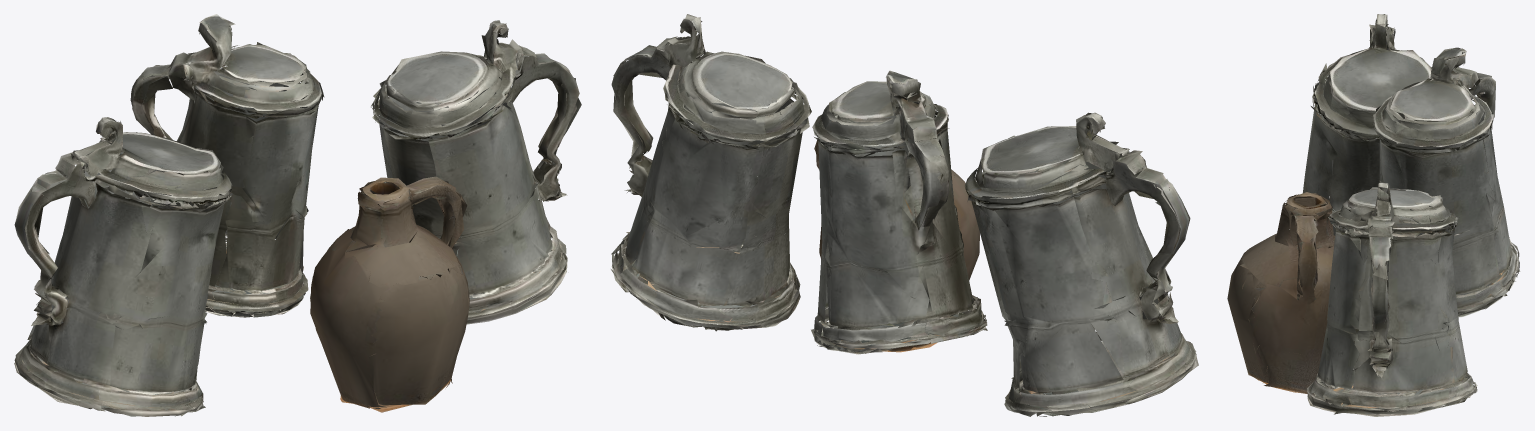
The model's file is tankard-cluster-interior-lod.glb.
The picture shows the model from 3 angles, left to right: view 1: azimuth 30°, elevation 25°; view 2: azimuth 150°, elevation 25°; view 3: azimuth 270°, elevation 25°; orthographic projection. The views are drawn at different scales.
Parts seen in each view (by area): view 1: Mesh_0; view 2: Mesh_0; view 3: Mesh_0.
Boxes of the visible parts, box(x1,y1,x2,y2) form: Mesh_0: box(14, 14, 581, 416); Mesh_0: box(611, 14, 1198, 416); Mesh_0: box(1227, 14, 1520, 416).
Size of the model in its own units: 1.9 by 1.09 by 0.9799.
Materials: 1 (1 with a texture image).
